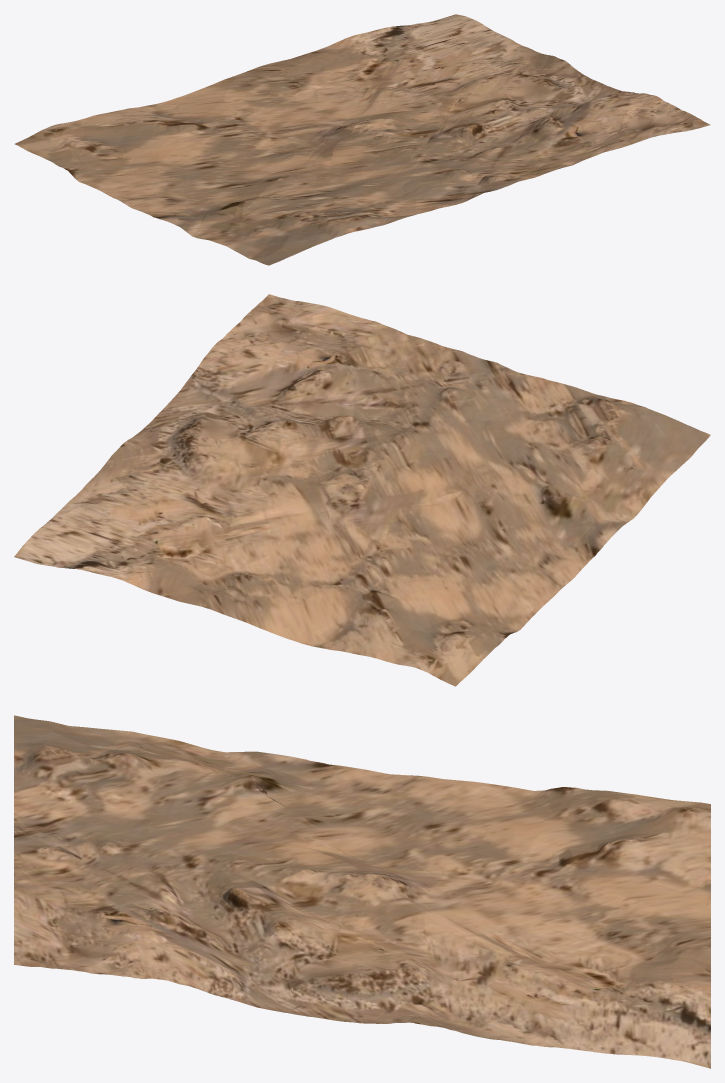
The picture shows the model from 3 angles, top to bottom: view 1: azimuth 30°, elevation 25°; view 2: azimuth 150°, elevation 25°; view 3: azimuth 270°, elevation 25°; orthographic projection. The views are drawn at different scales.
Bounding box in the file's own units: 4.18 × 0.9029 × 4.18.
Materials: 2 (2 with a texture image).
